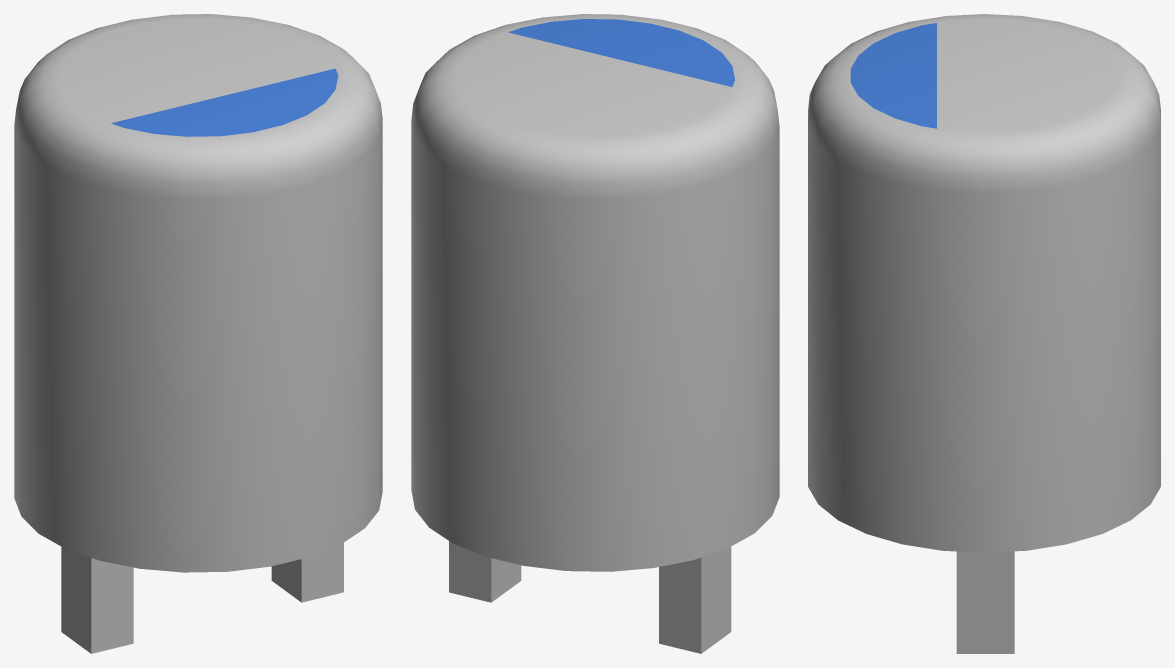
The model's file is conellino.fbx.
3 renders of one model, left to right at view 1: azimuth 30°, elevation 25°; view 2: azimuth 150°, elevation 25°; view 3: azimuth 270°, elevation 25°, orthographic. The views are drawn at different scales.
Visible parts, largest first — view 1: RAM_3; view 2: RAM_3; view 3: RAM_3.
Part boxes in pixels (<box>): RAM_3: <box>14,14,382,653</box>; RAM_3: <box>411,14,779,653</box>; RAM_3: <box>808,14,1160,653</box>.
Bounding box in the file's own units: 410 × 658 × 407.
